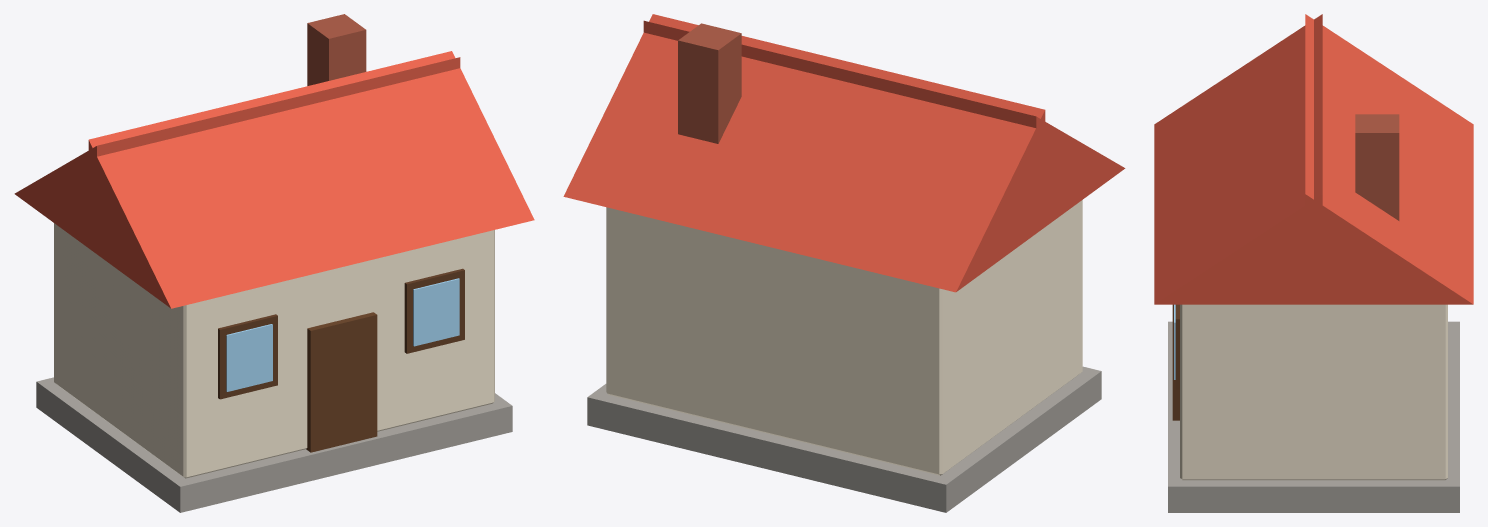
Rendered from Cottage.fbx.
3 renders of one model, left to right at view 1: azimuth 30°, elevation 25°; view 2: azimuth 150°, elevation 25°; view 3: azimuth 270°, elevation 25°, orthographic. The views are drawn at different scales.
Visible parts, largest first — view 1: Cottage; view 2: Cottage; view 3: Cottage.
Boxes of the visible parts, x1,y1,x2,y2 form: Cottage: [14, 14, 534, 512]; Cottage: [563, 14, 1125, 512]; Cottage: [1154, 14, 1473, 512].
Size of the model in its own units: 17.5 by 16 by 13.1.
1 material, 1 textured.
